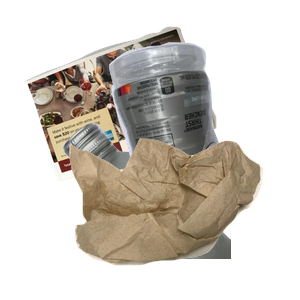glass: (60, 120, 300, 300)
paper: (23, 24, 232, 199)
plastic: (106, 40, 300, 220)
trash: (67, 136, 300, 300)
